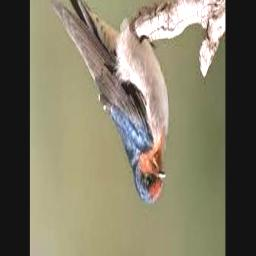Swallow: (48, 0, 170, 204)
